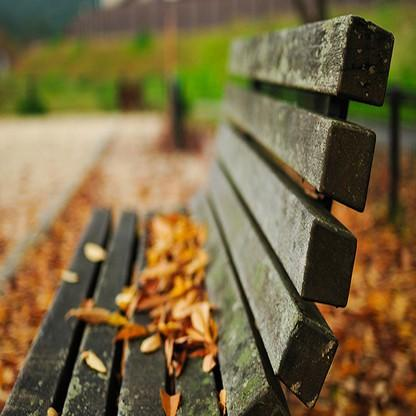obstacle: (5, 8, 401, 408)
